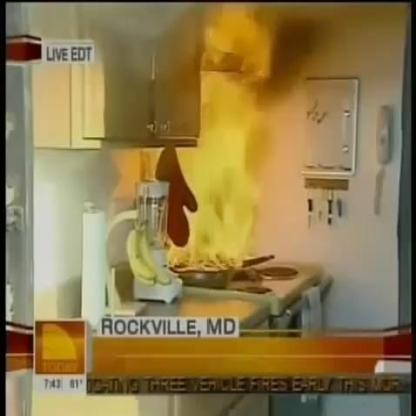fire: (158, 5, 272, 275)
